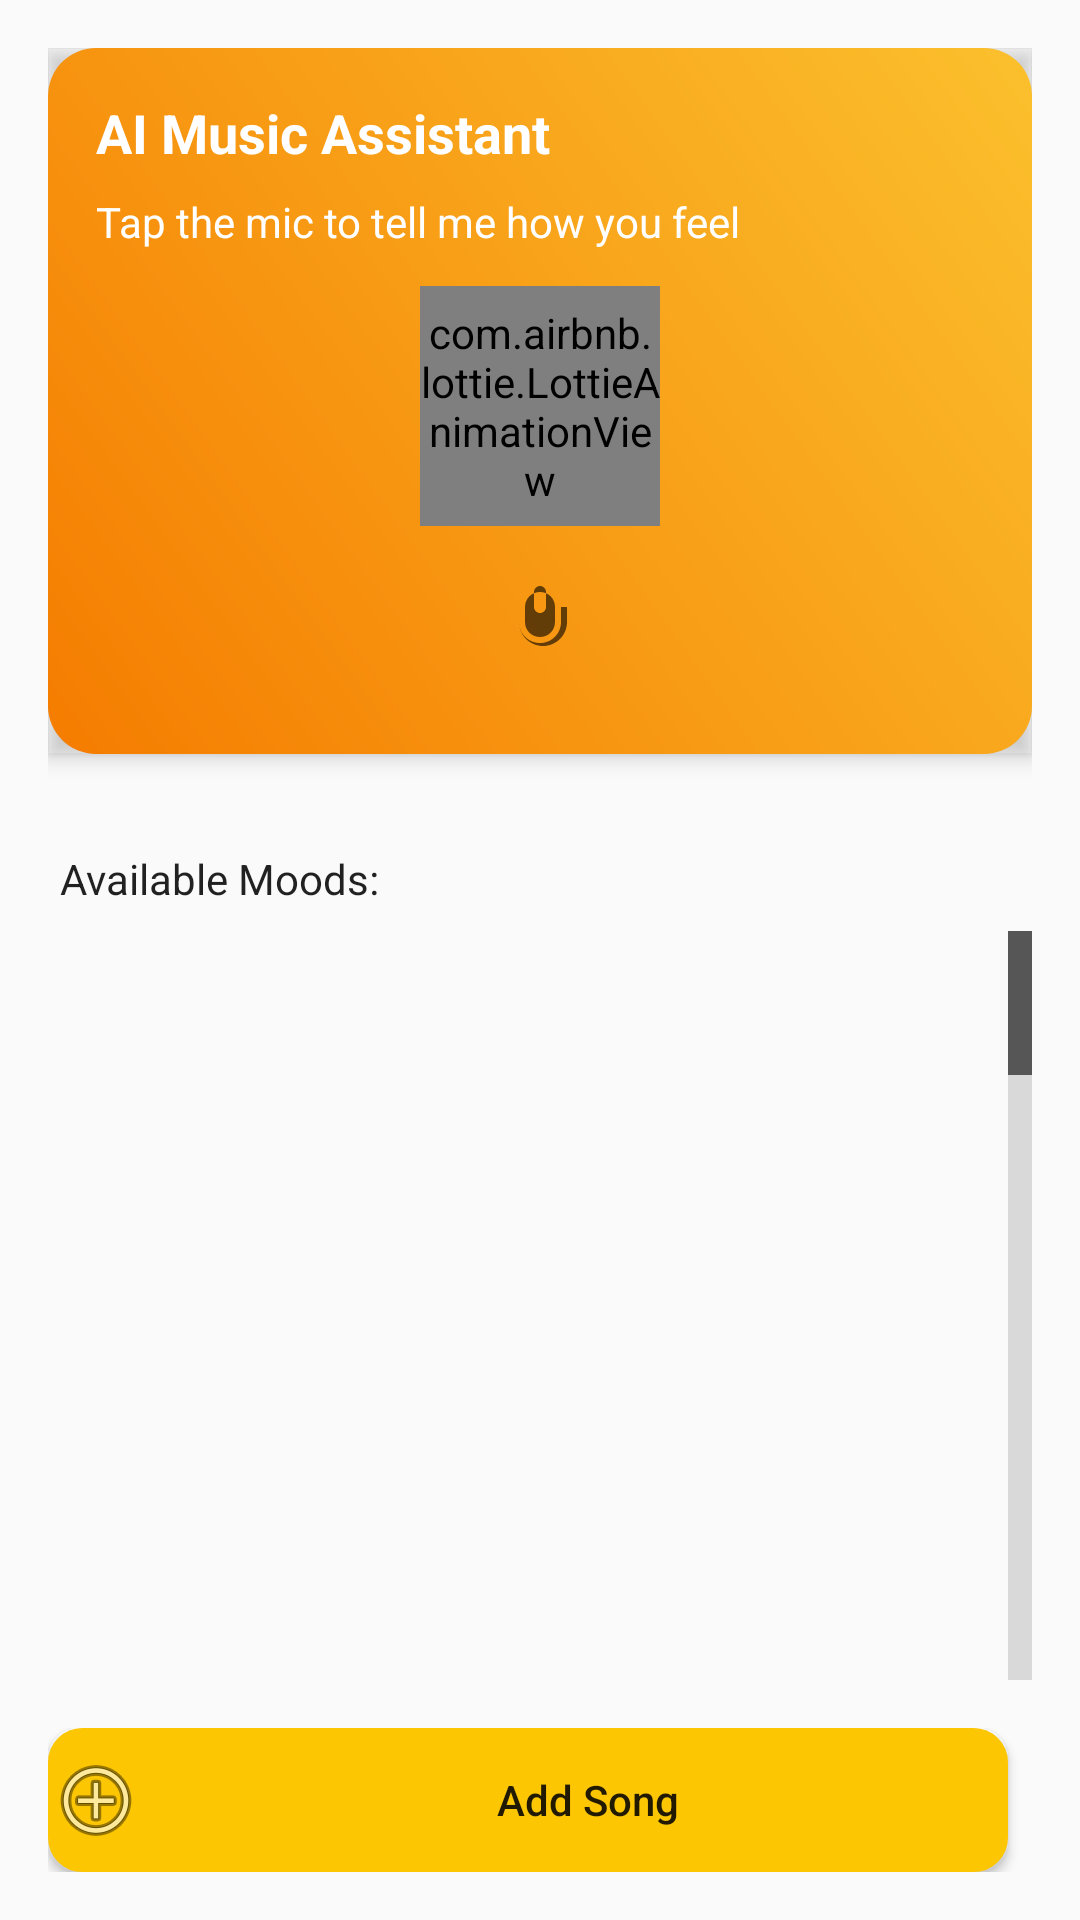

Point at icon controls on the screen. Image size 1080×1920, points as [x,y].
Microphone button for voice commands: [543,616]
